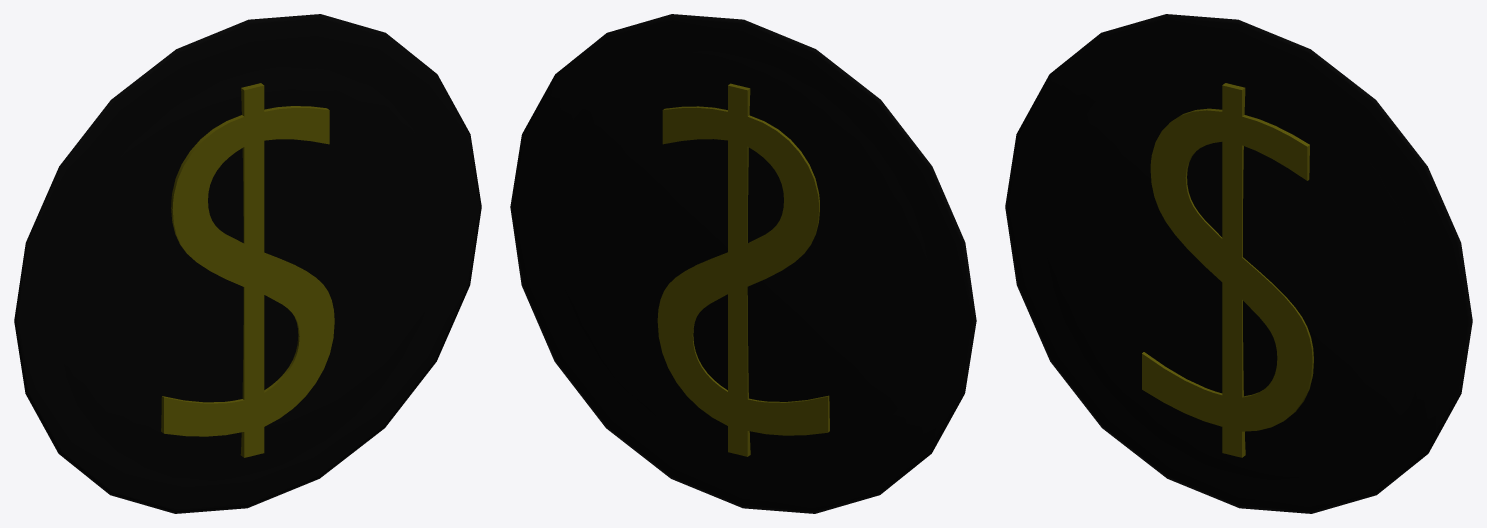
File: piratecoin.fbx
The picture shows the model from 3 angles, left to right: view 1: azimuth 30°, elevation 25°; view 2: azimuth 150°, elevation 25°; view 3: azimuth 330°, elevation 25°; orthographic projection.
Parts seen in each view (by area): view 1: pTorus2; view 2: pTorus2; view 3: pTorus2.
Part boxes in pixels (x1,y1,x2,y2): pTorus2: [14, 14, 481, 513]; pTorus2: [510, 14, 976, 513]; pTorus2: [1005, 14, 1472, 513].
Size of the model in its own units: 9.88 by 9.88 by 0.4605.
